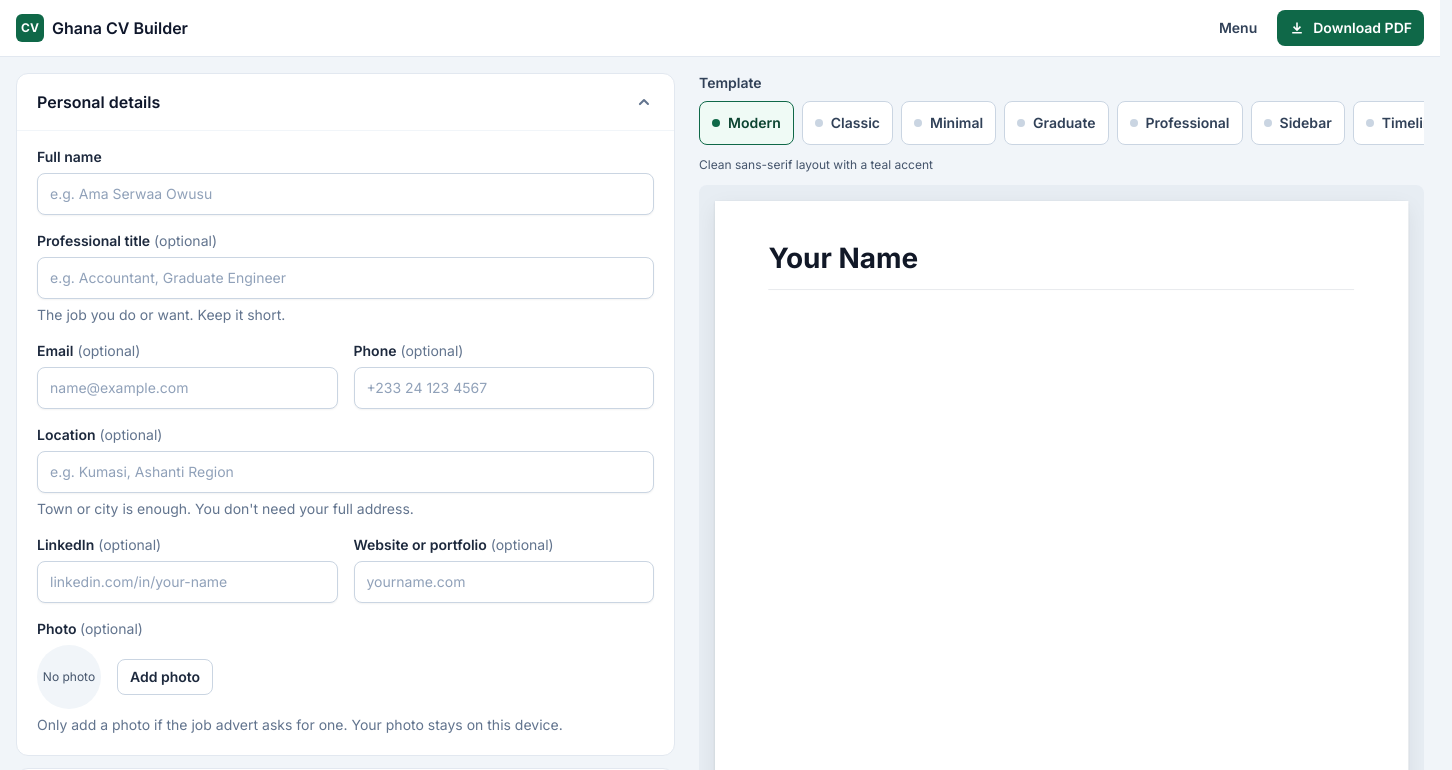
Builder › starts without an account and saves typing to this device
In the field labelled "Full name": [346, 194] box 37,173 -> 654,215, type "Ama Owusu"
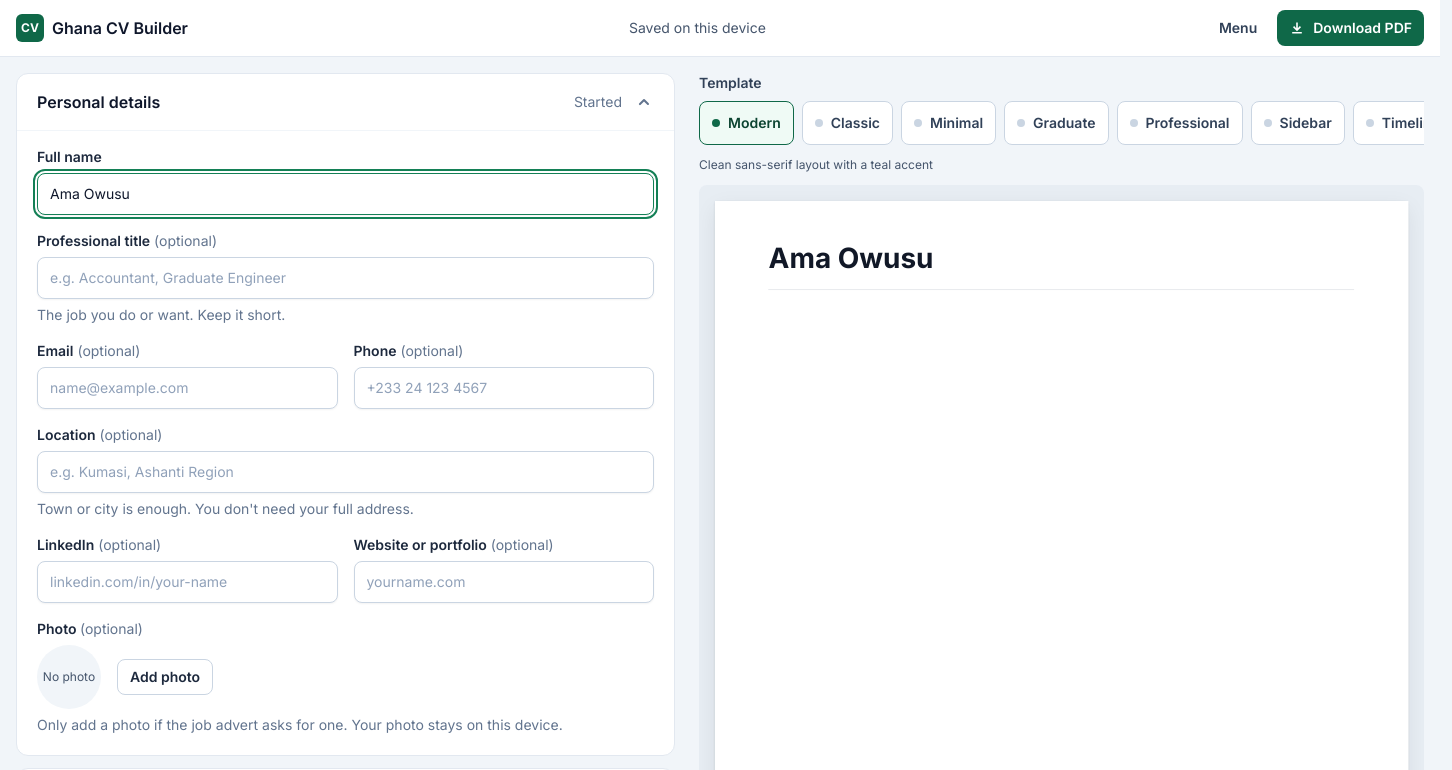
Expected: the text "Ama Owusu" is shown, 769,241 -> 934,275
Expected: the text "Saved on this device" is shown, 629,18 -> 766,38
